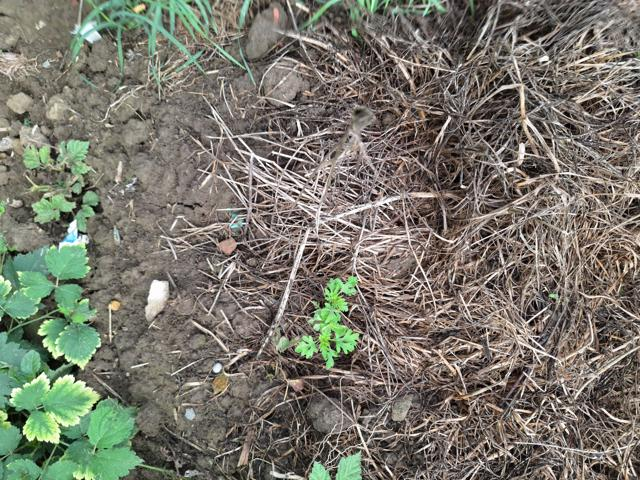bad weed: (0, 240, 150, 474), (277, 266, 381, 379), (0, 131, 113, 233)
